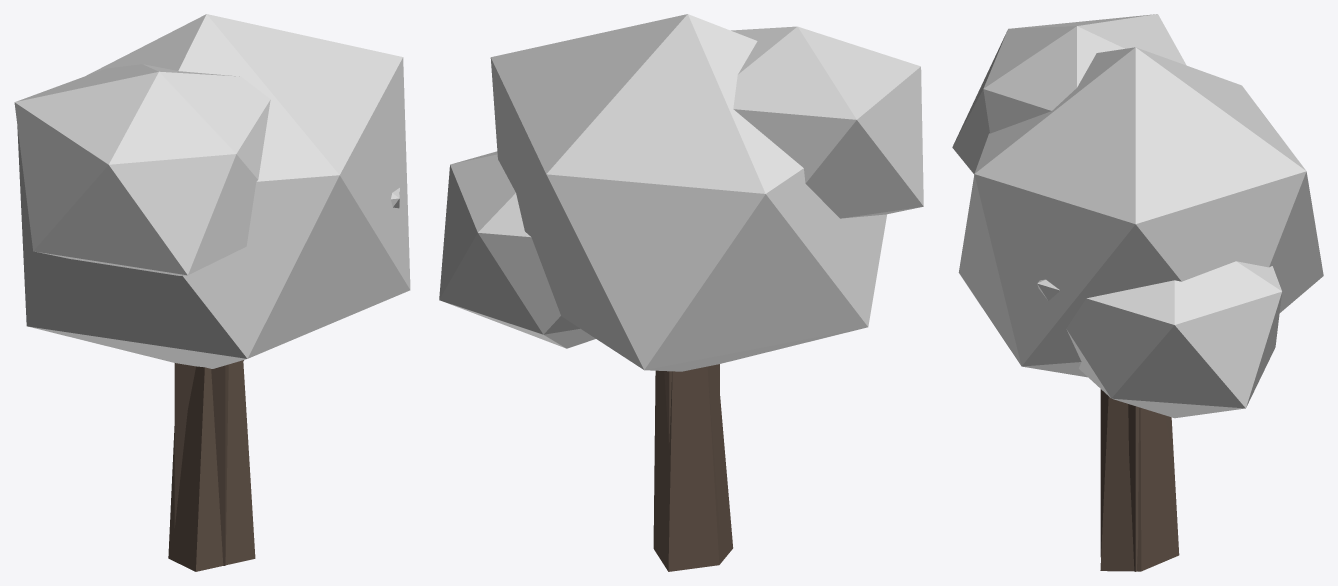
Rendered from tree_broadleaf.glb.
3 renders of one model, left to right at view 1: azimuth 30°, elevation 25°; view 2: azimuth 150°, elevation 25°; view 3: azimuth 270°, elevation 25°, orthographic. The views are drawn at different scales.
Parts seen in each view (by area): view 1: far, crown2, trunk, far_trunk; view 2: far, crown2, crown1, trunk, far_trunk; view 3: far, crown1, crown2, trunk, far_trunk.
Boxes of the visible parts, box(x1,y1,x2,y2) form: far: box(17, 14, 410, 368); crown2: box(14, 64, 270, 275); trunk: box(168, 360, 255, 571); far_trunk: box(174, 363, 228, 565); far: box(490, 14, 886, 371); crown2: box(731, 26, 923, 218); crown1: box(439, 151, 595, 348); trunk: box(653, 366, 733, 571); far_trunk: box(664, 364, 719, 529); far: box(958, 47, 1323, 377); crown1: box(1037, 261, 1282, 418); crown2: box(952, 14, 1186, 174); trunk: box(1100, 396, 1179, 571); far_trunk: box(1100, 389, 1170, 571).
Bounding box in the file's own units: 1.18 × 1.44 × 0.9519.
